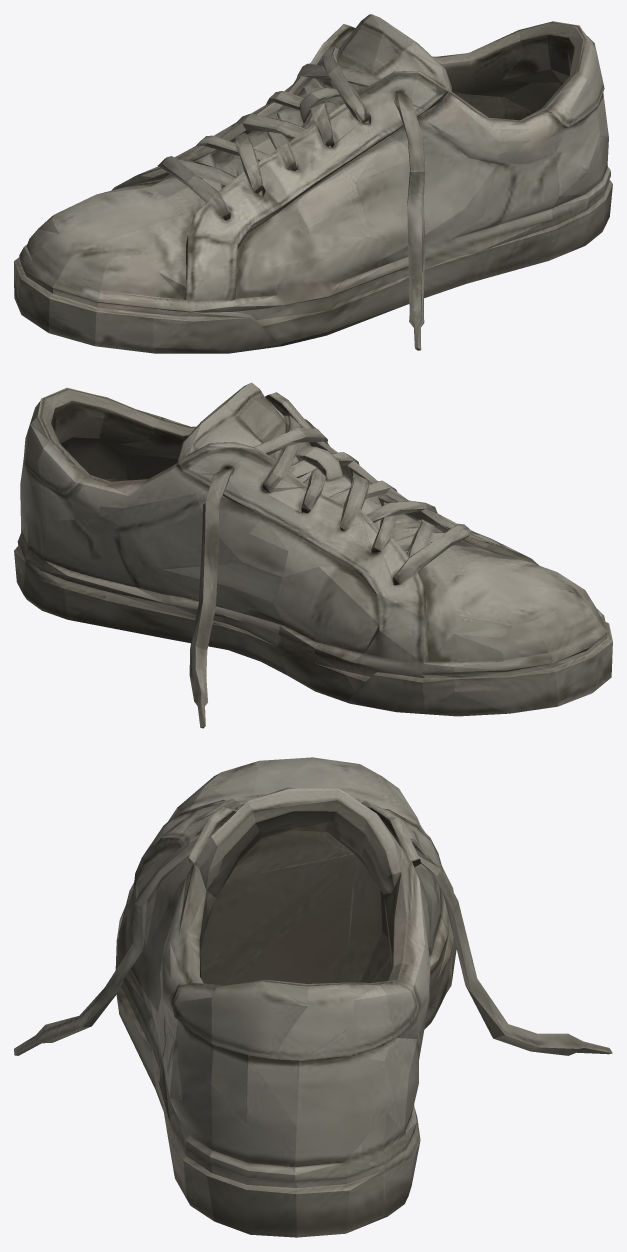
Rendered from sneaker.glb.
3 views of the same model, one above another, from view 1: azimuth 30°, elevation 25°; view 2: azimuth 150°, elevation 25°; view 3: azimuth 270°, elevation 25° (orthographic). The views are drawn at different scales.
Visible parts, largest first — view 1: Mesh_0; view 2: Mesh_0; view 3: Mesh_0.
Boxes of the visible parts, x1,y1,x2,y2 form: Mesh_0: [14, 14, 612, 353]; Mesh_0: [14, 382, 612, 728]; Mesh_0: [14, 757, 612, 1237].
Size of the model in its own units: 1.9 by 0.7422 by 1.27.
Materials: 1 (1 with a texture image).
